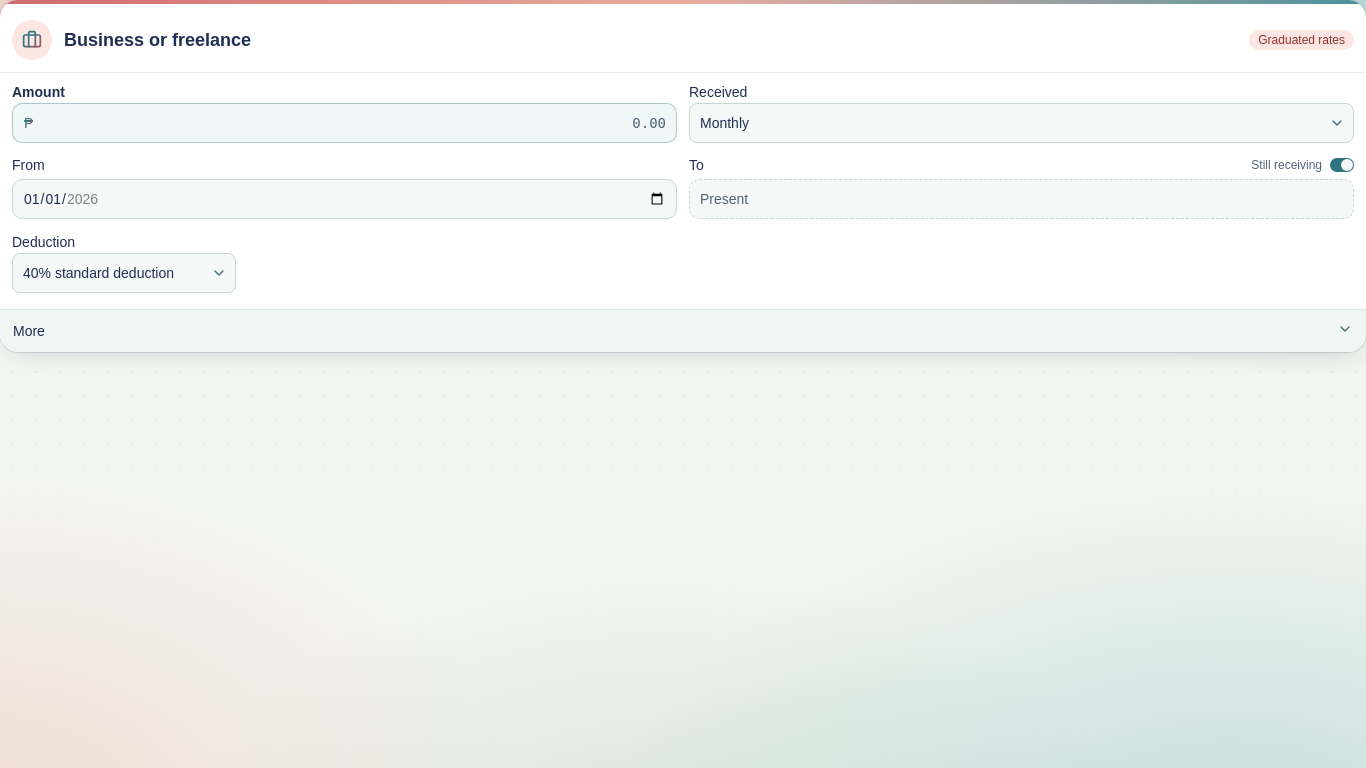
Test: BusinessSection: the More tray › has other income, the 1701Q paid and the 2307 credit, each with its own saved value
The image size is (1366, 768).
Click the button "More".
click(29, 331)  # box x1=12 y1=310 x2=1354 y2=352
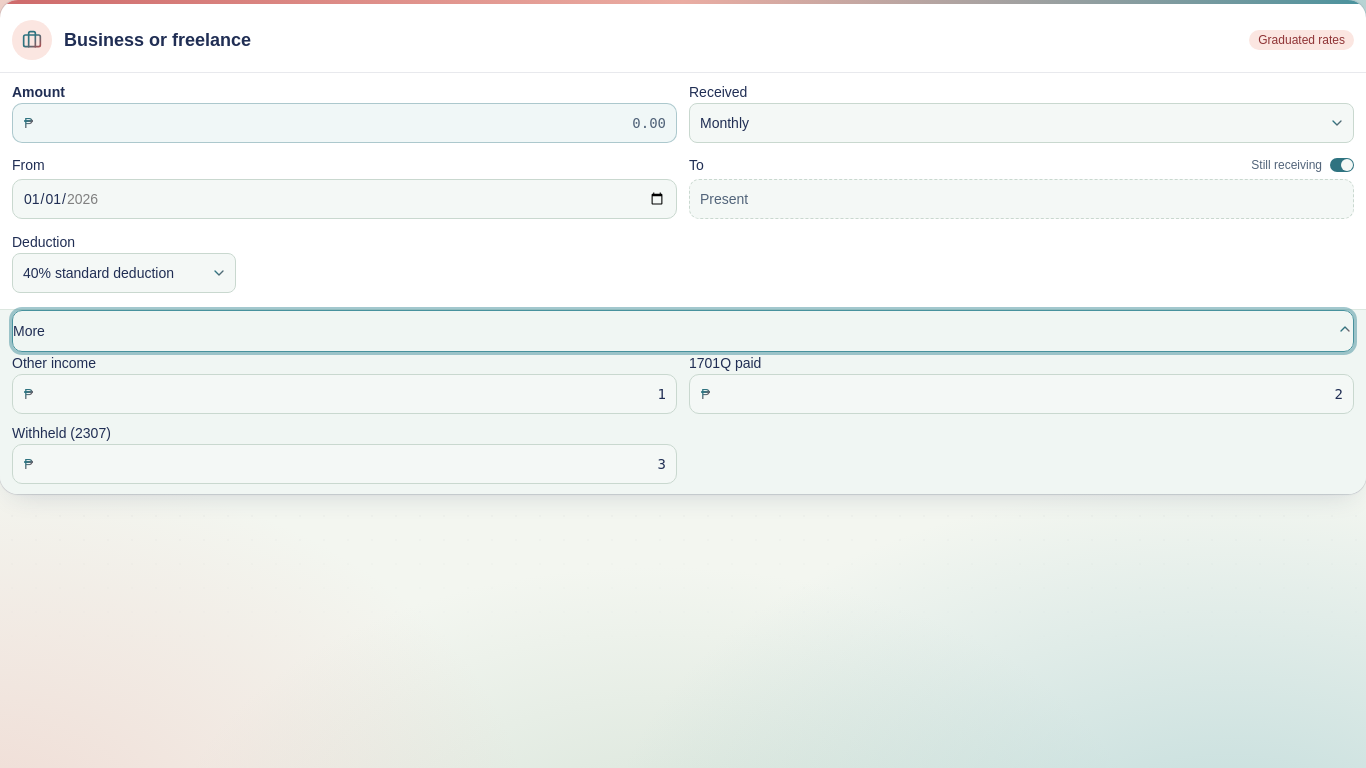
Result: the field labelled "Other income" holds "1" at x1=12 y1=374 x2=677 y2=414
Result: the field labelled "1701Q paid" holds "2" at x1=689 y1=374 x2=1354 y2=414
Result: the field labelled "Withheld (2307)" holds "3" at x1=12 y1=444 x2=677 y2=484
